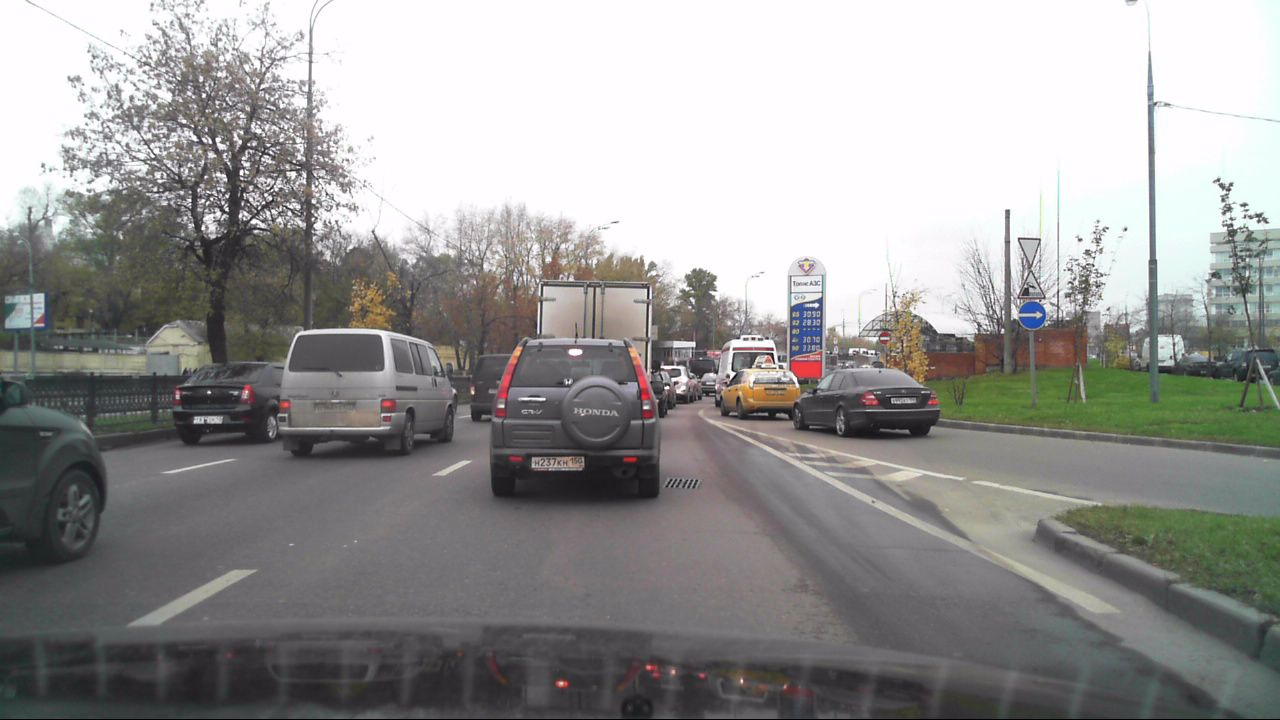Turn Right: (1018, 301, 1046, 330)
